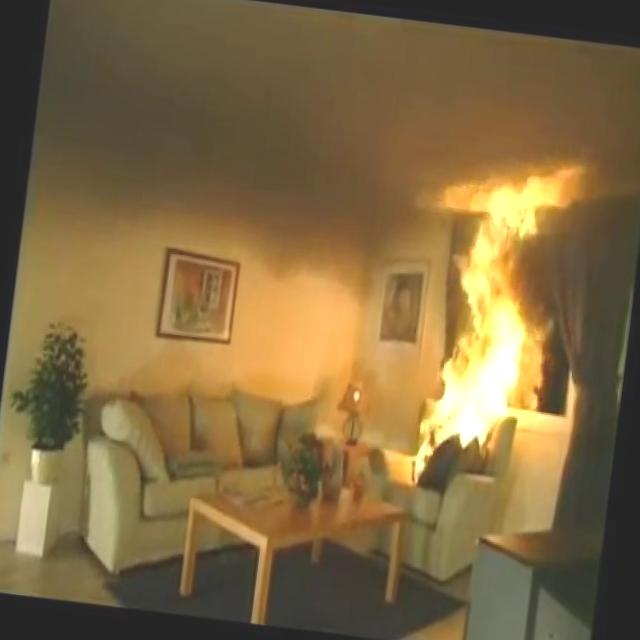fire: (402, 175, 570, 466)
smoke: (29, 0, 462, 245)
